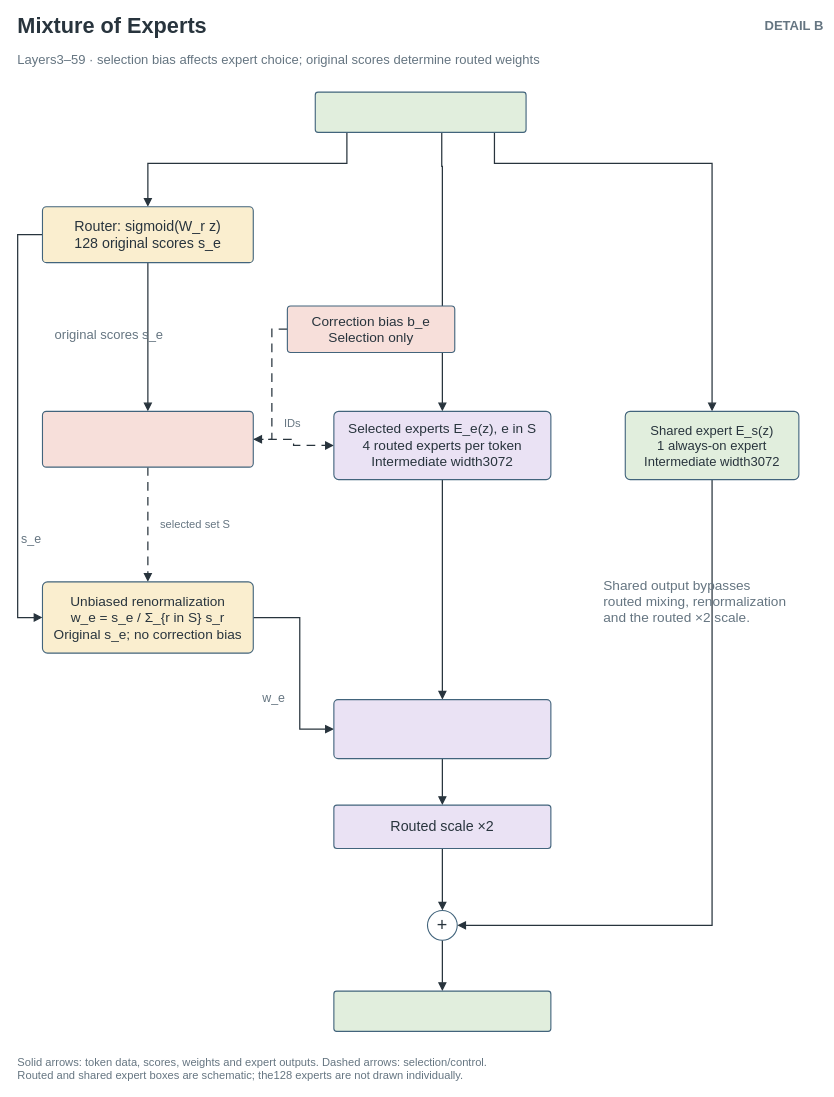
Image size: 834x1097. Some labels were removed from this diagram. The shapes that lost their labels are listed below. From the top down, each one's box as (x1, y1, x2, y2) in pixels, then its label:
(314, 91, 526, 133): z = Norm(h)
(42, 411, 254, 467): S = Top4(s + b) 4 of128 routed experts
(333, 699, 551, 759): Weighted routed sum Σ_{e in S} w_e E_e(z)
(333, 990, 551, 1032): MoE output
